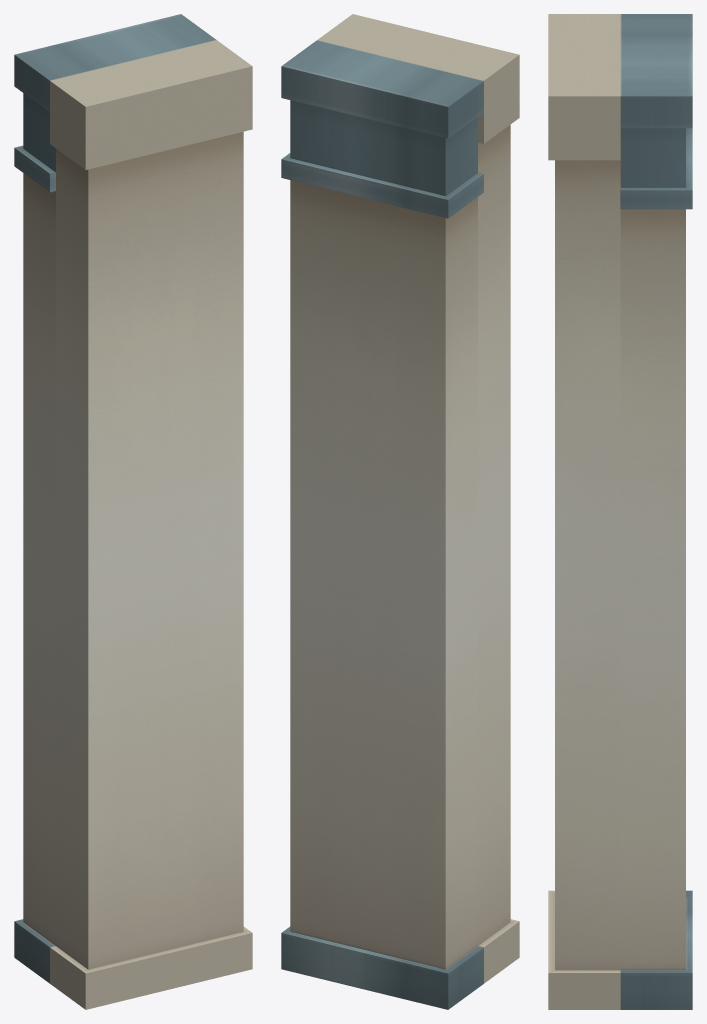
File: SHW_Pillar_01_05.fbx
The picture shows the model from 3 angles, left to right: view 1: azimuth 30°, elevation 25°; view 2: azimuth 150°, elevation 25°; view 3: azimuth 270°, elevation 25°; orthographic projection.
Visible parts, largest first — view 1: shw_pillar_01_05; view 2: shw_pillar_01_05; view 3: shw_pillar_01_05.
Boxes of the visible parts, x1=… form: shw_pillar_01_05: x1=14, y1=14, x2=252, y2=1009; shw_pillar_01_05: x1=281, y1=14, x2=519, y2=1009; shw_pillar_01_05: x1=548, y1=14, x2=692, y2=1009.
Size of the model in its own units: 58 by 300 by 43.
